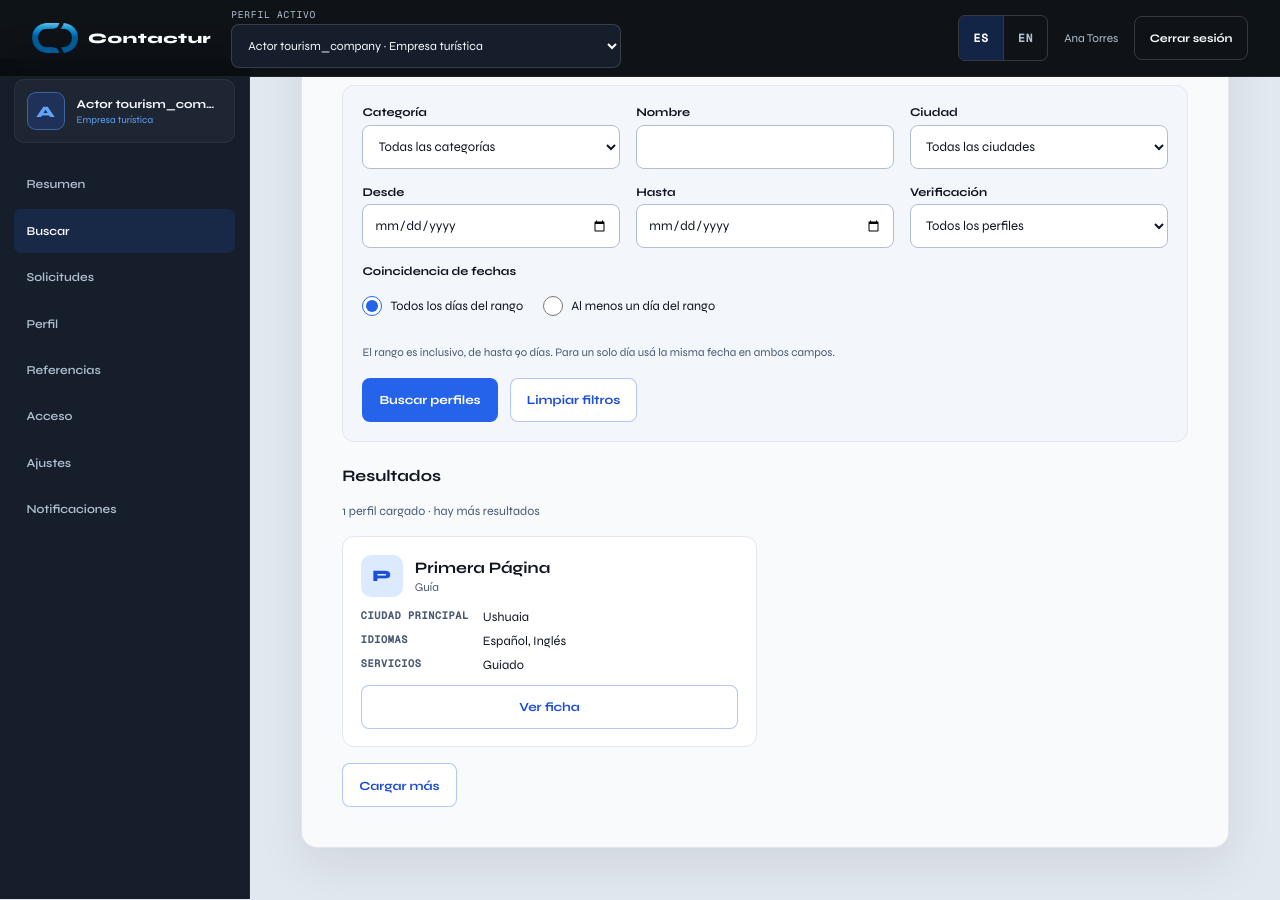
Test case: T15 — estados de la búsqueda › Cargar más usa el cursor opaco y agrega la segunda página
(page scrolled)
Expected: the element "Primera Página" is shown, x1=342 y1=536 x2=757 y2=748
Expected: the text "1 perfil cargado · hay más resultados" is shown, x1=342 y1=503 x2=540 y2=518
Click the button "Cargar más": (399, 785) x1=342 y1=763 x2=457 y2=807
(page scrolled)
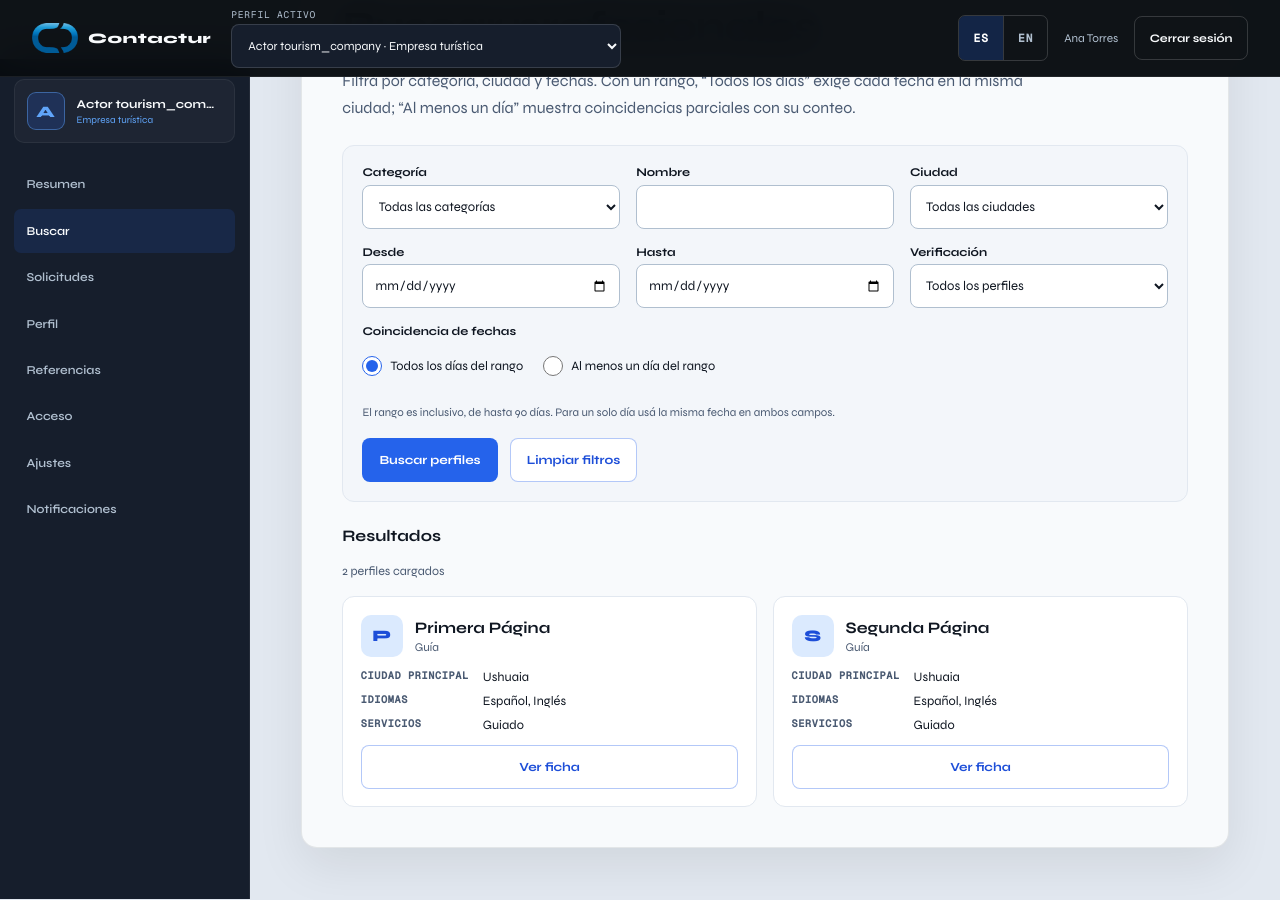
Expected: the element "Primera Página" is shown, x1=342 y1=596 x2=757 y2=808
Expected: the element "Segunda Página" is shown, x1=773 y1=596 x2=1188 y2=808
Expected: the button "Cargar más" is gone
